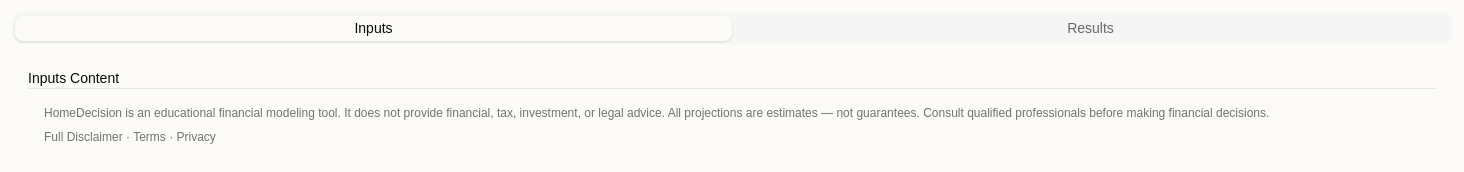
it: MobileLayout › switches to Results tab on click
The image size is (1464, 172).
Click the tab "Results" at (1090, 28), box [732,16,1449,40]
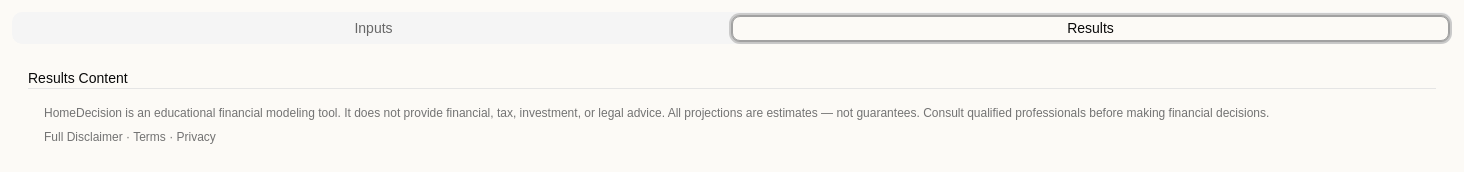
Expected: the text "Results Content" is shown, [28,70,128,86]
